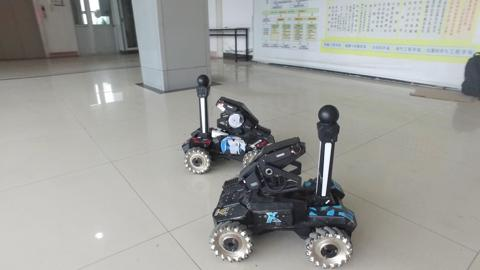chariot: (209, 96, 369, 270), (174, 70, 281, 176)
